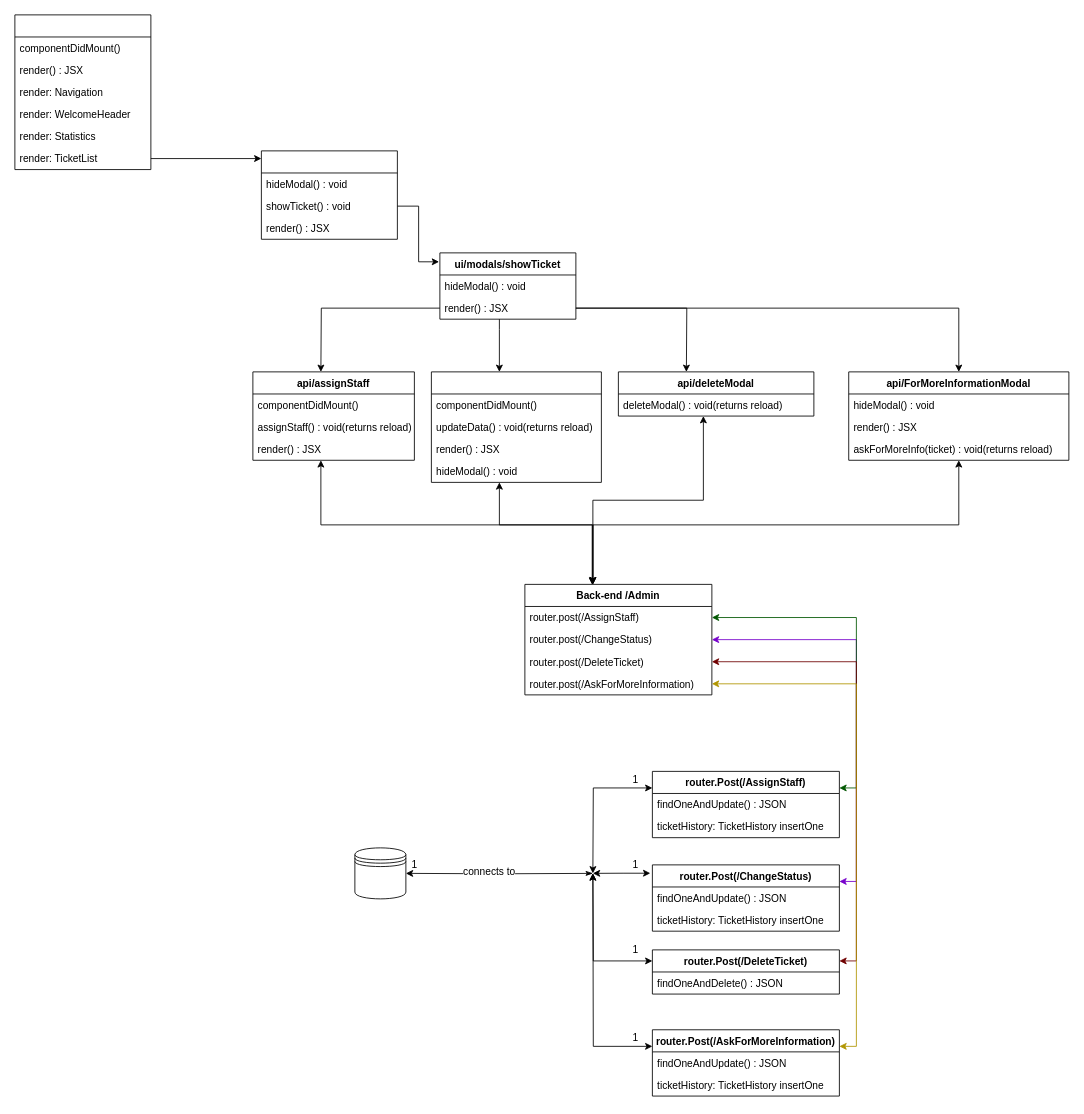
This 1084x1114 diagram has some shape labels left out. Here are the shapes that lost their labels. From the top down, the box of each, then its label:
(14, 14, 151, 170): admin_dashboard
(261, 150, 397, 239): ui/TicketList
(431, 371, 601, 482): api/changeStatus
(354, 847, 406, 899): MongoDB
